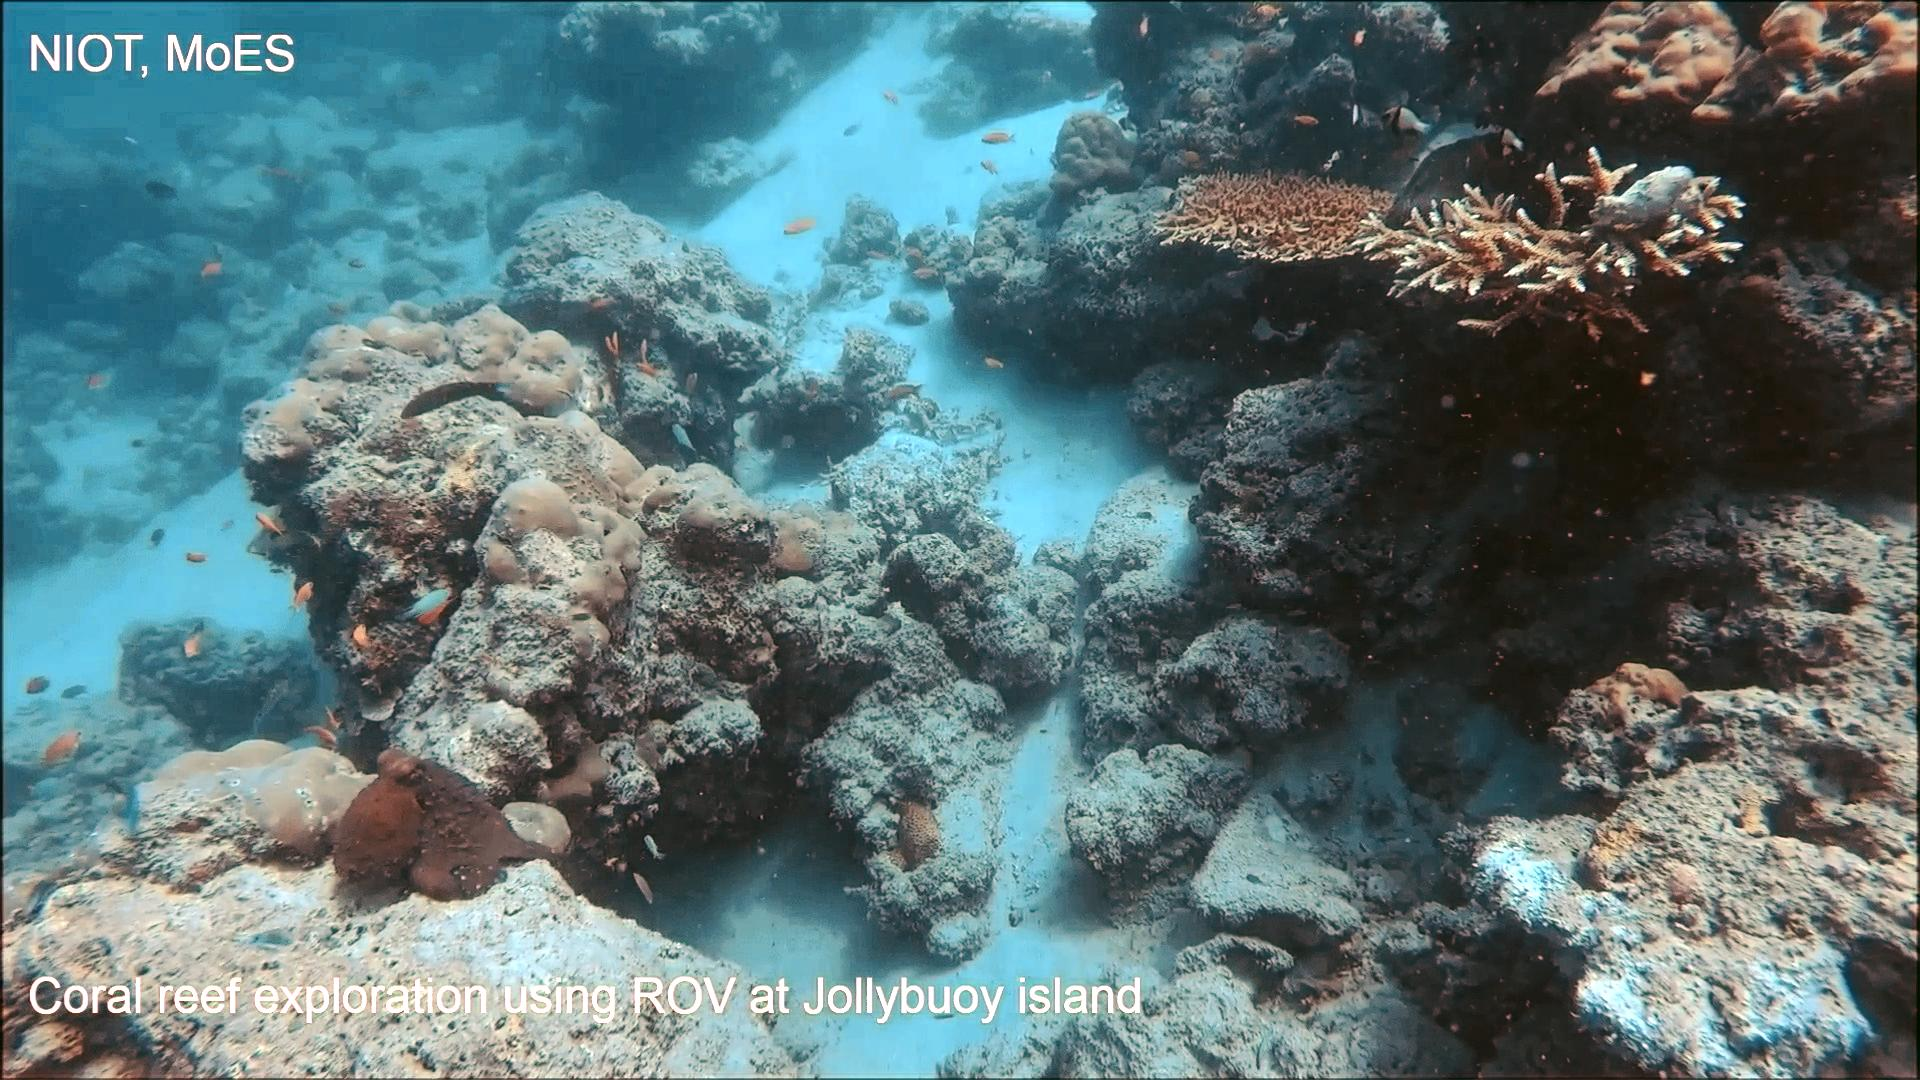Porites-Porites pukoensis: (423, 298, 682, 655)
